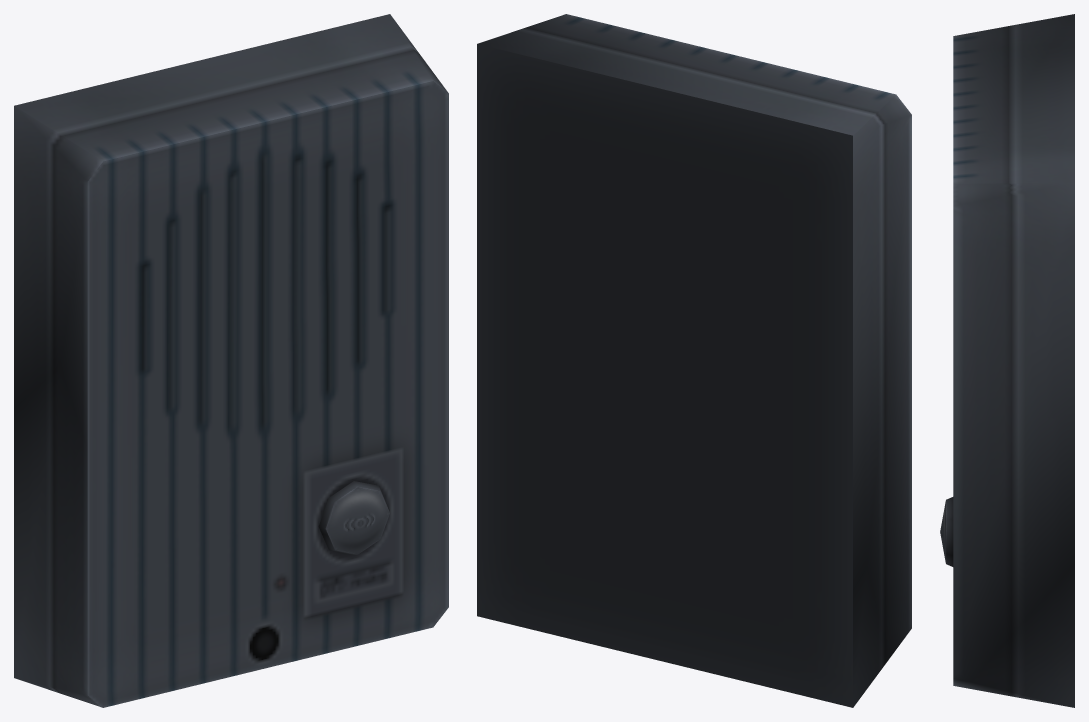
The model's file is set_interphone.fbx.
3 renders of one model, left to right at view 1: azimuth 30°, elevation 25°; view 2: azimuth 150°, elevation 25°; view 3: azimuth 270°, elevation 25°, orthographic. The views are drawn at different scales.
Visible parts, largest first — view 1: interphone, interphone_button; view 2: interphone; view 3: interphone, interphone_button.
Part boxes in pixels (x1,y1,x2,y2): interphone: (14,14,448,707); interphone_button: (318,481,389,554); interphone: (477,14,911,707); interphone: (953,14,1074,707); interphone_button: (940,497,953,566).
Bounding box in the file's own units: 12.9 × 18.75 × 4.36.
